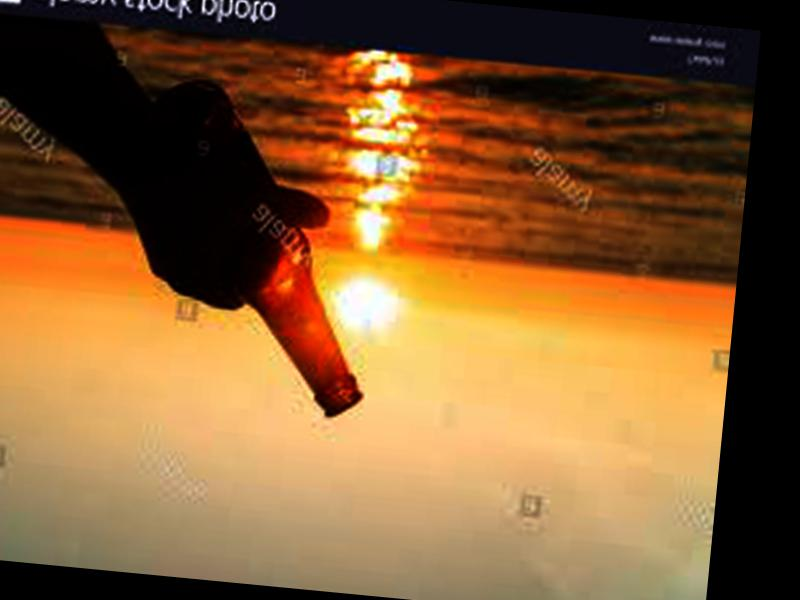Beer: (118, 74, 389, 424)
